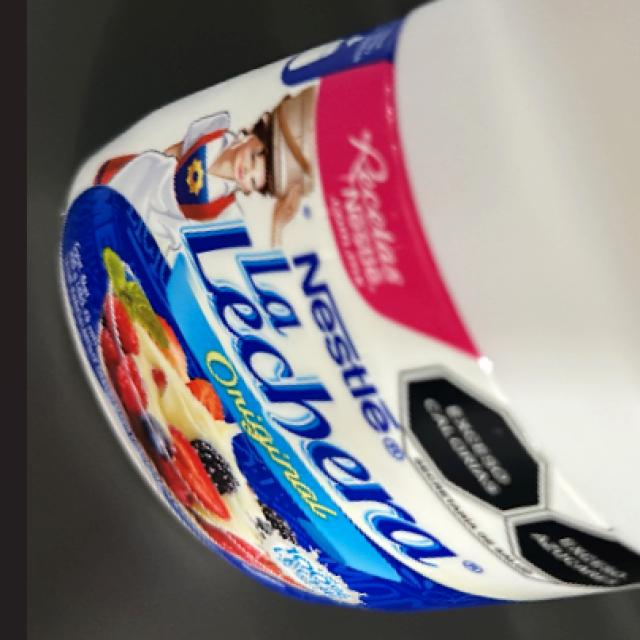nestleLechera: (66, 132, 624, 581)
